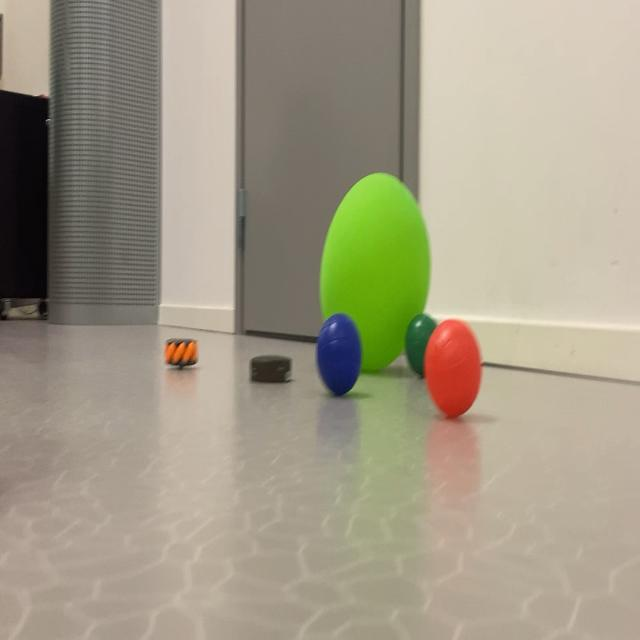7: (424, 310, 490, 430)
green ball: (312, 288, 496, 435), (308, 297, 367, 418)
red ball: (402, 305, 442, 375)
